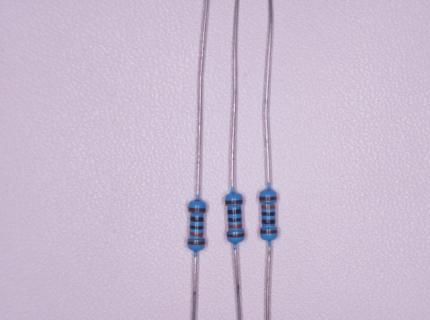Black band: (261, 219, 276, 225), (228, 217, 242, 223), (190, 216, 204, 222), (227, 209, 242, 214), (261, 212, 275, 217), (190, 225, 204, 230)
Brown band: (188, 207, 206, 213), (260, 229, 278, 235), (225, 200, 243, 205), (259, 196, 276, 201), (227, 234, 245, 238), (187, 241, 205, 245)
Orange band: (228, 224, 243, 229), (190, 232, 204, 237), (261, 205, 275, 209)
